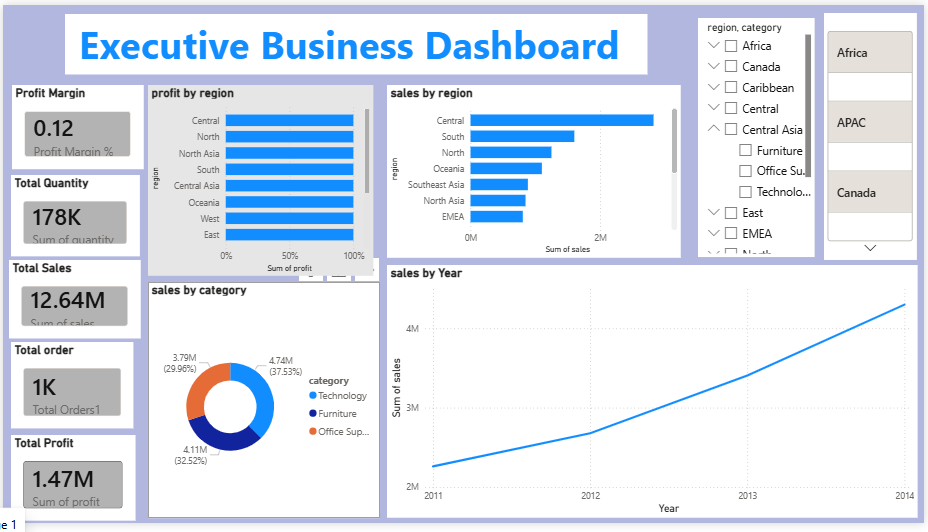

Layout of this report page (visuals, bound fields, positions):
{"tool":"powerbi","page":{"name":"Page 1","canvas":[1280,720],"ordinal":0},"visuals":[{"type":"cardVisual","title":"Total Sales","fields":{"Data":["Sum(public sales_dashboard_clean.sales)"]},"box":[8.5,354.3,182.8,109.1],"z":0},{"type":"cardVisual","title":"Total Profit","fields":{"Data":["Sum(public sales_dashboard_clean.profit)"]},"box":[11.3,596.7,172.9,119.1],"z":1000},{"type":"cardVisual","title":"Total Quantity","fields":{"Data":["Sum(public sales_dashboard_clean.quantity)"]},"box":[11.3,236.7,178.6,113.4],"z":2000},{"type":"clusteredBarChart","title":"sales by region","fields":{"Category":["public sales_dashboard_clean.region"],"Y":["Sum(public sales_dashboard_clean.sales)"]},"box":[532.9,110.6,408.2,239.5],"z":3000},{"type":"donutChart","title":"sales by category","fields":{"Category":["public sales_dashboard_clean.category"],"Y":["Sum(public sales_dashboard_clean.sales)"]},"box":[201.3,384.2,322.4,327.6],"z":4000},{"type":"hundredPercentStackedBarChart","title":"profit by region","fields":{"Category":["public sales_dashboard_clean.region"],"Y":["Sum(public sales_dashboard_clean.profit)"]},"box":[201.3,110.6,313.2,265],"z":5000},{"type":"slicer","fields":{"Values":["public sales_dashboard_clean.region","public sales_dashboard_clean.category"]},"box":[965.2,18.4,161.6,331.7],"z":6000},{"type":"lineChart","title":"sales by Year","fields":{"Category":["public sales_dashboard_clean.Year"],"Y":["Sum(public sales_dashboard_clean.sales)"]},"box":[532.9,360.5,736.8,351.3],"z":7000},{"type":"cardVisual","fields":{"Rows":["public sales_dashboard_clean.market"]},"box":[1140.9,11.3,129,343],"z":8000},{"type":"cardVisual","title":"Profit Margin","fields":{"Data":["public sales_dashboard_clean.Profit Margin %"]},"box":[11.8,110.5,182.9,117.1],"z":9000},{"type":"textbox","box":[85.5,11.8,809.2,84.2],"z":10000},{"type":"cardVisual","title":"Total order","fields":{"Data":["public sales_dashboard_clean.Total Orders1"]},"box":[11.3,467.7,170.1,120.5],"z":11000}]}

Visuals, with their boxes in screenshot pixels (x1, y1, x2, y2):
"Total Sales" cardVisual: box(11, 258, 142, 336)
"Total Profit" cardVisual: box(13, 431, 137, 517)
"Total Quantity" cardVisual: box(13, 174, 141, 255)
"sales by region" clusteredBarChart: box(386, 84, 678, 255)
"sales by category" donutChart: box(149, 280, 379, 514)
"profit by region" hundredPercentStackedBarChart: box(149, 84, 373, 273)
slicer - public sales_dashboard_clean.region x public sales_dashboard_clean.category: box(695, 18, 810, 255)
"sales by Year" lineChart: box(386, 263, 913, 514)
cardVisual - public sales_dashboard_clean.market: box(821, 13, 913, 258)
"Profit Margin" cardVisual: box(13, 84, 144, 168)
textbox: box(66, 13, 645, 73)
"Total order" cardVisual: box(13, 339, 135, 425)
